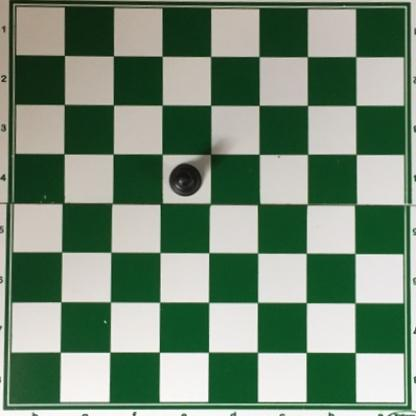black-pawn: (169, 162, 204, 198)
